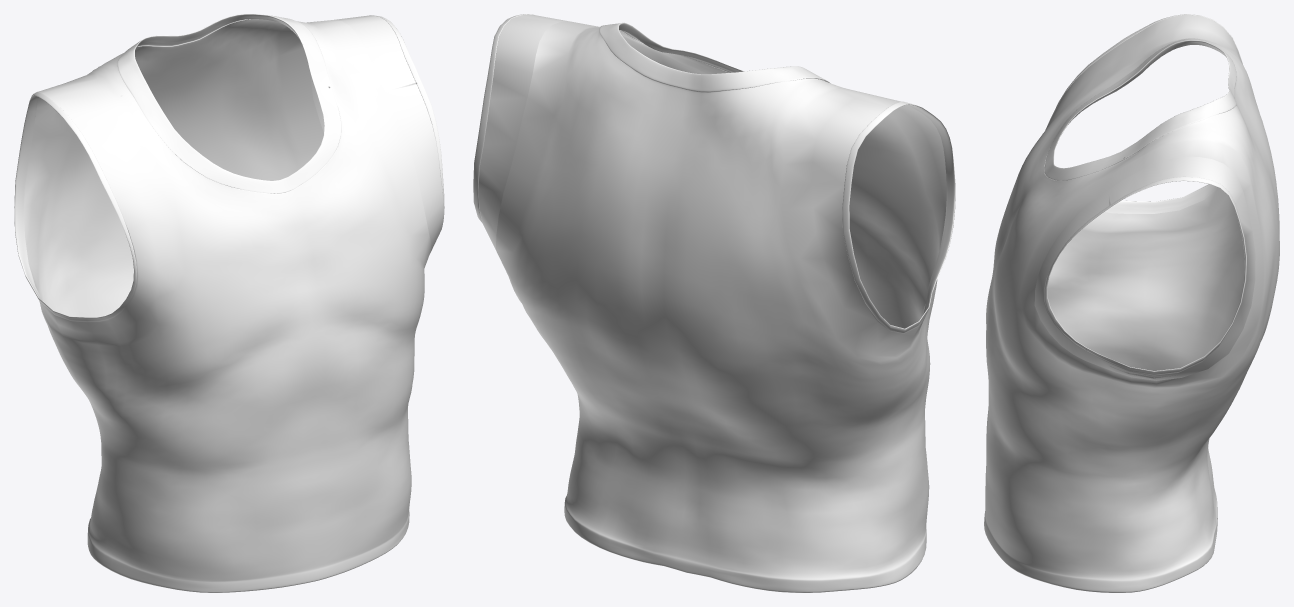
The model's file is Jersey.glb.
3 views of the same model, side by side, from view 1: azimuth 30°, elevation 25°; view 2: azimuth 150°, elevation 25°; view 3: azimuth 270°, elevation 25° (orthographic). The views are drawn at different scales.
Visible parts, largest first — view 1: Tankini_for_Genesis.003; view 2: Tankini_for_Genesis.003; view 3: Tankini_for_Genesis.003.
Part boxes in pixels (x1,y1,x2,y2): Tankini_for_Genesis.003: (14,14,444,592); Tankini_for_Genesis.003: (473,14,955,592); Tankini_for_Genesis.003: (984,14,1279,592).
Size of the model in its own units: 7.61 by 9.39 by 5.56.
1 material, 1 textured.
